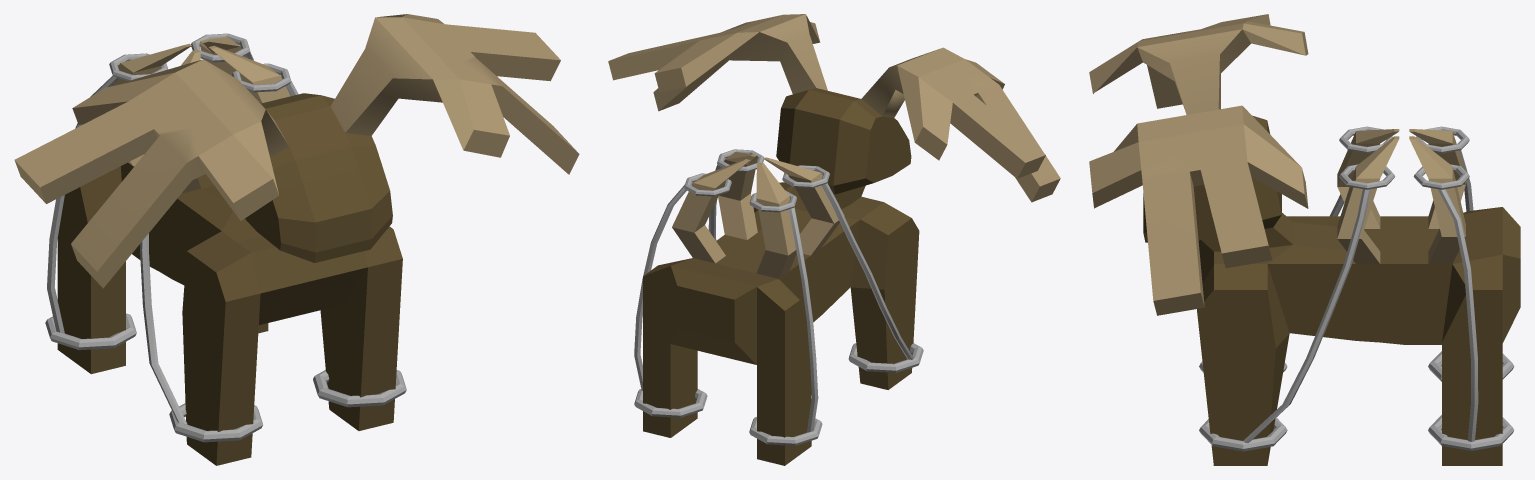
File: p_boss_s.fbx
3 renders of one model, left to right at view 1: azimuth 30°, elevation 25°; view 2: azimuth 150°, elevation 25°; view 3: azimuth 270°, elevation 25°, orthographic. The views are drawn at different scales.
Parts seen in each view (by area): view 1: body4, pCylinder5, pTorus4, pCylinder4, pTorus3, pTorus2, pTorus5, pTorus7; view 2: body4, pCylinder4, pCylinder5, pCylinder1, pTorus3, pTorus1, pTorus2, pTorus8, pTorus5; view 3: body4, pCylinder3, pCylinder1, pTorus4, pTorus1, pTorus5, pTorus7, pTorus6, pTorus8, pTorus2.
Boxes of the visible parts, x1,y1,x2,y2 form: body4: (14,14,579,465); pCylinder5: (140,154,187,424); pTorus4: (313,370,406,407); pCylinder4: (47,75,118,333); pTorus3: (169,403,262,442); pTorus2: (45,313,136,350); pTorus5: (191,33,250,62); pTorus7: (232,63,291,92); body4: (608,14,1060,465); pCylinder4: (788,207,818,432); pCylinder5: (821,183,913,359); pCylinder1: (634,182,692,390); pTorus3: (848,343,923,372); pTorus1: (634,389,707,417); pTorus2: (749,417,822,445); pTorus8: (782,165,829,188); pTorus5: (684,173,731,196); body4: (1089,14,1520,465); pCylinder3: (1243,189,1370,443); pCylinder1: (1438,189,1478,441); pTorus4: (1199,417,1287,451); pTorus1: (1428,415,1514,450); pTorus5: (1413,164,1469,189); pTorus7: (1339,164,1395,189); pTorus6: (1415,126,1469,153); pTorus8: (1339,126,1392,153); pTorus2: (1428,351,1514,381).
Size of the model in its own units: 1.25 by 0.9024 by 0.9827.
